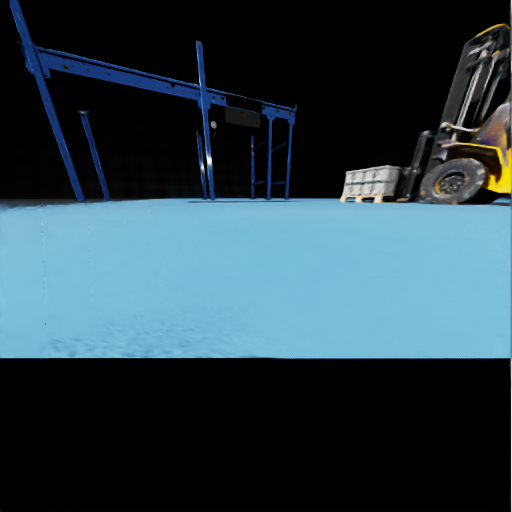transportation_area: (361, 181, 403, 194), (72, 65, 73, 66)
